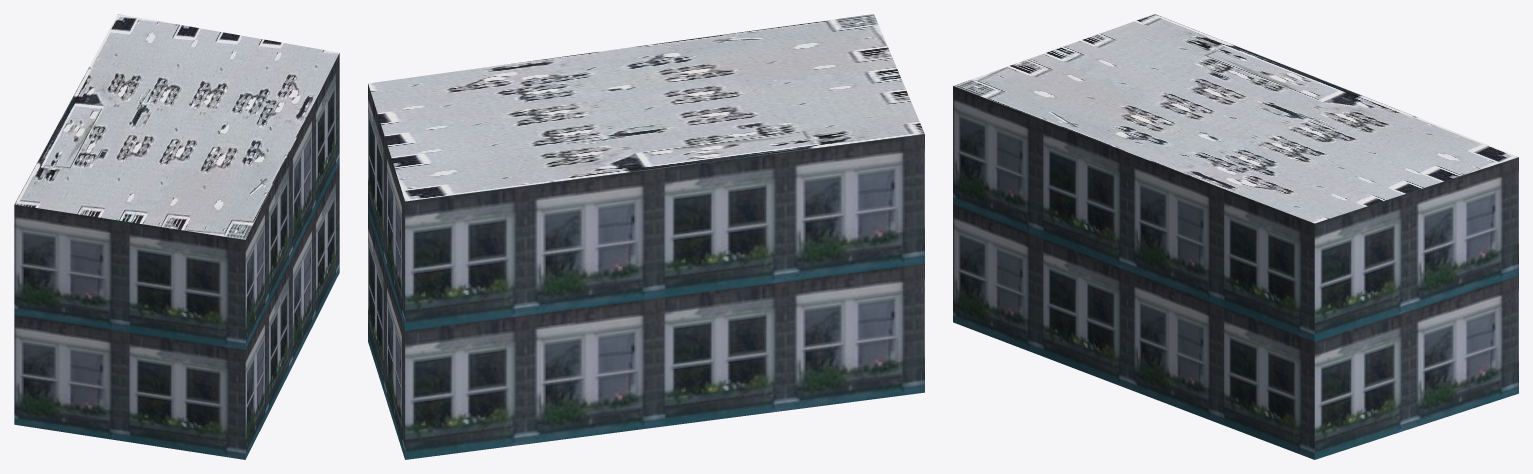
Rendered from ResTex__2503.fbx.
3 views of the same model, side by side, from view 1: azimuth 30°, elevation 25°; view 2: azimuth 150°, elevation 25°; view 3: azimuth 270°, elevation 25° (orthographic). The views are drawn at different scales.
Parts seen in each view (by area): view 1: CityEngineMaterial_11_m, CityEngineMaterial_8_m; view 2: CityEngineMaterial_11_m, CityEngineMaterial_8_m; view 3: CityEngineMaterial_11_m, CityEngineMaterial_8_m.
Boxes of the visible parts, x1,y1,x2,y2 form: CityEngineMaterial_11_m: (14, 53, 339, 459); CityEngineMaterial_8_m: (14, 14, 339, 239); CityEngineMaterial_11_m: (368, 84, 924, 459); CityEngineMaterial_8_m: (368, 14, 924, 201); CityEngineMaterial_11_m: (953, 86, 1518, 459); CityEngineMaterial_8_m: (953, 14, 1518, 223).
Size of the model in its own units: 11.4 by 6 by 13.01.
2 materials, 2 textured.
